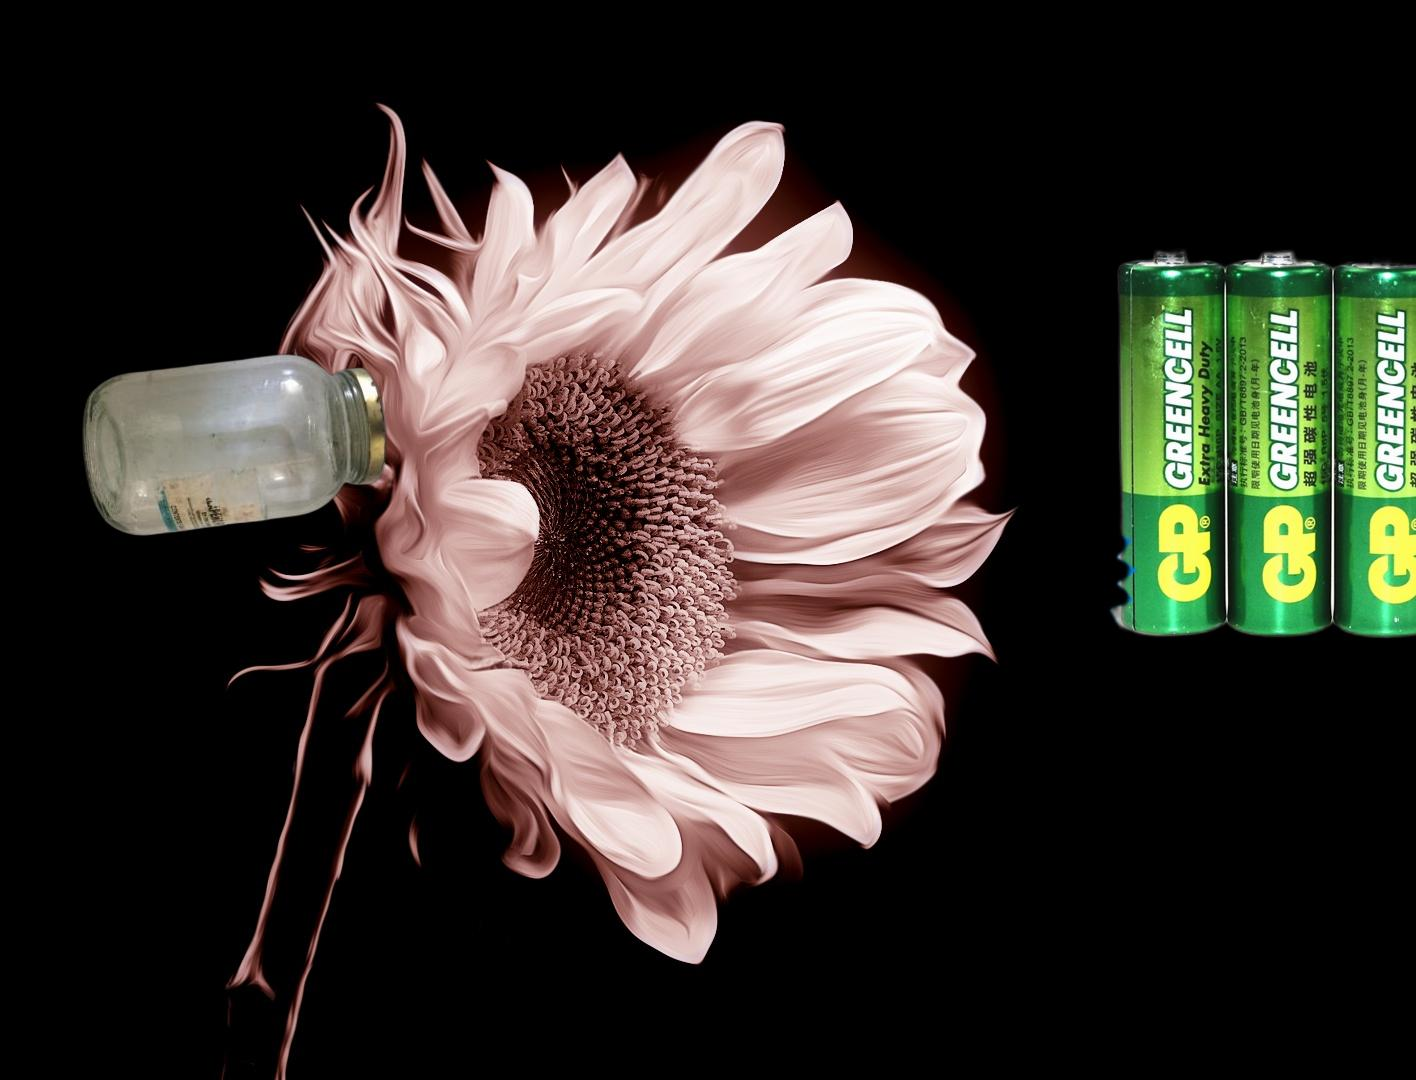battery: (1102, 245, 1416, 646)
glass: (79, 351, 390, 539)
